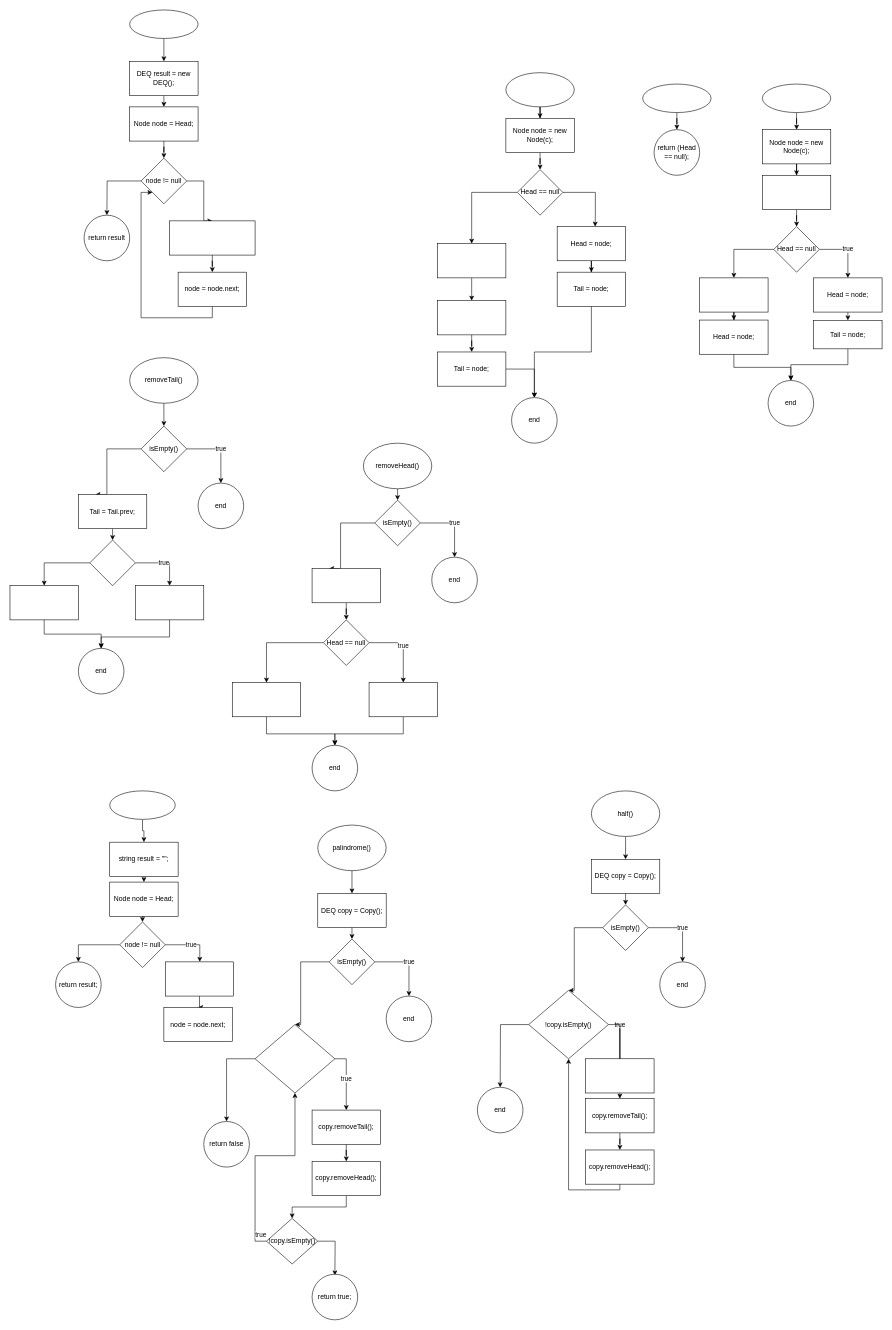
Some shapes in this 892 by 1330 pixel diagram are drawn without their labels. Here are the shapes that lost their labels. From the top down, the centre of each, then its label:
At [163,23]: "Copy ()".
At [539,89]: "insertTail ( char c )".
At [676,98]: "isEmpty".
At [796,98]: "insertHead ( char c )".
At [796,192]: "node . next = Head ;".
At [212,237]: "result . insertTail ( node . data );".
At [471,260]: "node . prev = Tail ;".
At [733,294]: "Head . prev = node ;".
At [471,317]: "Tail . next = node ;".
At [112,563]: "Tail == null".
At [43,602]: "Tail . next = null ;".
At [169,602]: "Head = null ;".
At [346,585]: "Head = Head . next ;".
At [266,699]: "Head . prev = null ;".
At [403,699]: "Tail = null ;".
At [142,804]: "getSring ()".
At [199,978]: "result += node . data ;".
At [295,1058]: "copy . Head . data == copy . Tail . data".
At [619,1075]: "Console . Write ( copy . Tail . data );".
